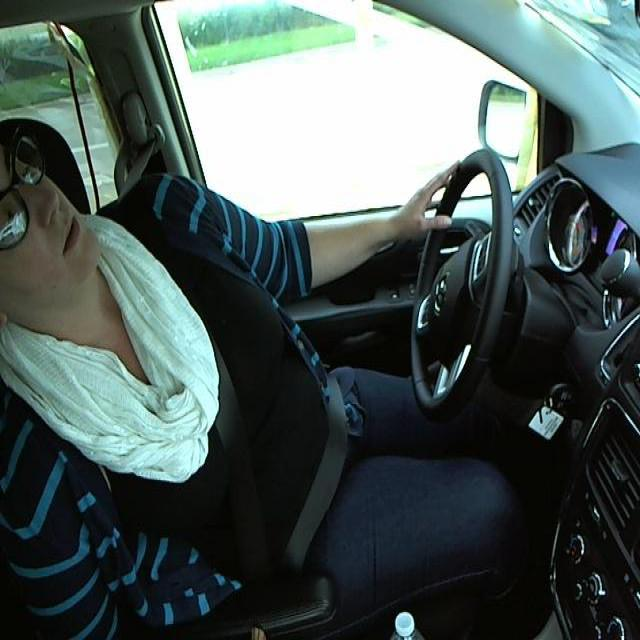seatbelt: (179, 344, 282, 563)
